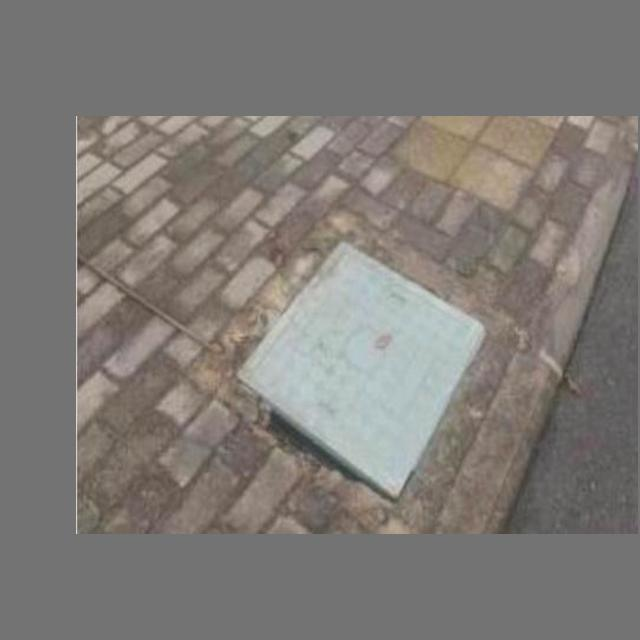good: (231, 230, 491, 498)
